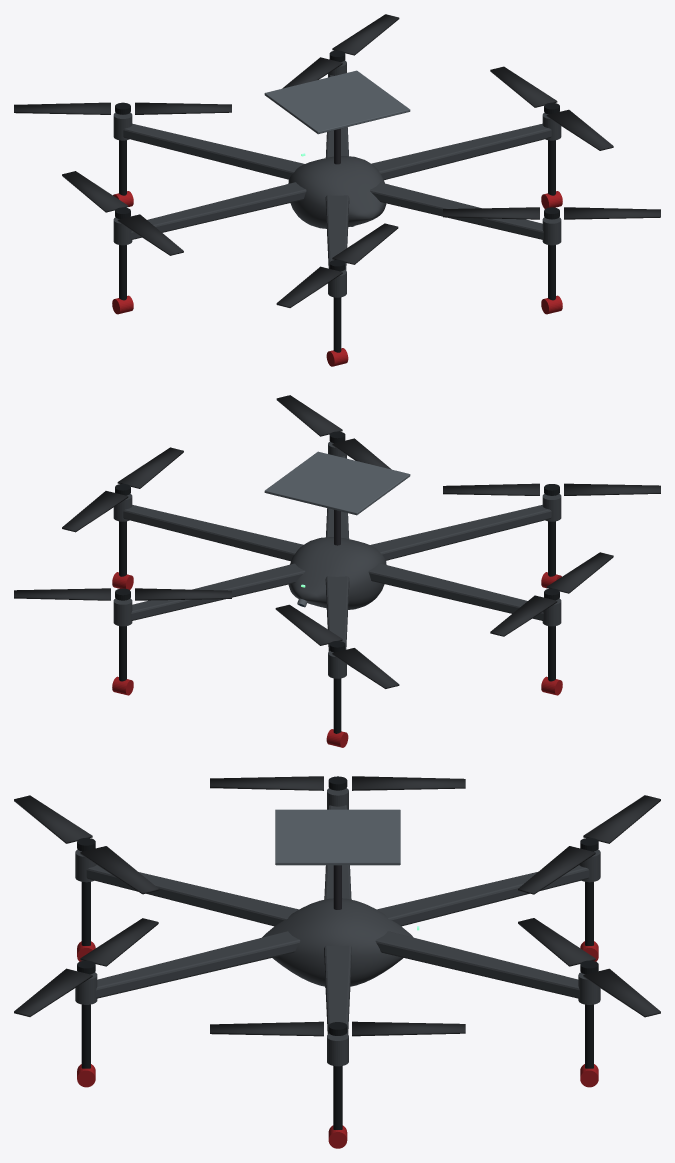
Rendered from mars_hex6.glb.
3 renders of one model, top to bottom at view 1: azimuth 30°, elevation 25°; view 2: azimuth 150°, elevation 25°; view 3: azimuth 270°, elevation 25°, orthographic. The views are drawn at different scales.
Visible parts, largest first — view 1: equipment_solar_panel, body_core, arm_r1, arm_r3, arm_r4, arm_r6, rotor_r3_blades, rotor_r6_blades, rotor_r1_blades, rotor_r5_blades, rotor_r4_blades, rotor_r2_blades (+1 smaller); view 2: equipment_solar_panel, body_core, arm_r1, arm_r5, arm_r4, arm_r2, rotor_r2_blades, rotor_r5_blades, rotor_r4_blades, rotor_r3_blades, rotor_r1_blades, rotor_r6_blades (+1 smaller); view 3: equipment_solar_panel, body_core, arm_r2, arm_r6, arm_r5, arm_r3, rotor_r4_blades, rotor_r1_blades, rotor_r5_blades, rotor_r2_blades, rotor_r6_blades, rotor_r3_blades (+8 smaller).
Part boxes in pixels (x1,y1,x2,y2): equipment_solar_panel: (264,70,410,134); body_core: (288,156,386,228); arm_r1: (371,123,551,180); arm_r3: (123,123,304,179); arm_r4: (131,182,306,239); arm_r6: (370,182,543,239); rotor_r3_blades: (14,102,231,114); rotor_r6_blades: (443,207,660,219); rotor_r1_blades: (490,66,613,150); rotor_r5_blades: (276,223,398,307); rotor_r4_blades: (62,171,183,255); rotor_r2_blades: (282,14,399,88); equipment_solar_panel: (264,451,410,515); body_core: (288,537,386,609); arm_r1: (123,505,303,561); arm_r5: (370,505,551,560); arm_r4: (368,563,543,620); arm_r2: (131,563,305,620); rotor_r2_blades: (14,588,231,600); rotor_r5_blades: (443,483,660,495); rotor_r4_blades: (490,552,613,636); rotor_r3_blades: (275,604,399,688); rotor_r1_blades: (62,447,183,532); rotor_r6_blades: (276,395,391,469); equipment_solar_panel: (275,809,400,865); body_core: (262,898,413,986); arm_r2: (375,931,579,998); arm_r6: (96,931,300,998); arm_r5: (86,865,298,926); arm_r3: (376,865,589,926); rotor_r4_blades: (210,776,465,790); rotor_r1_blades: (210,1021,465,1036); rotor_r5_blades: (14,795,158,894); rotor_r2_blades: (518,918,660,1017); rotor_r6_blades: (14,918,158,1016); rotor_r3_blades: (518,795,660,894).
Size of what is drawn, in the model's own units: 2.63 by 0.884 by 2.78.
